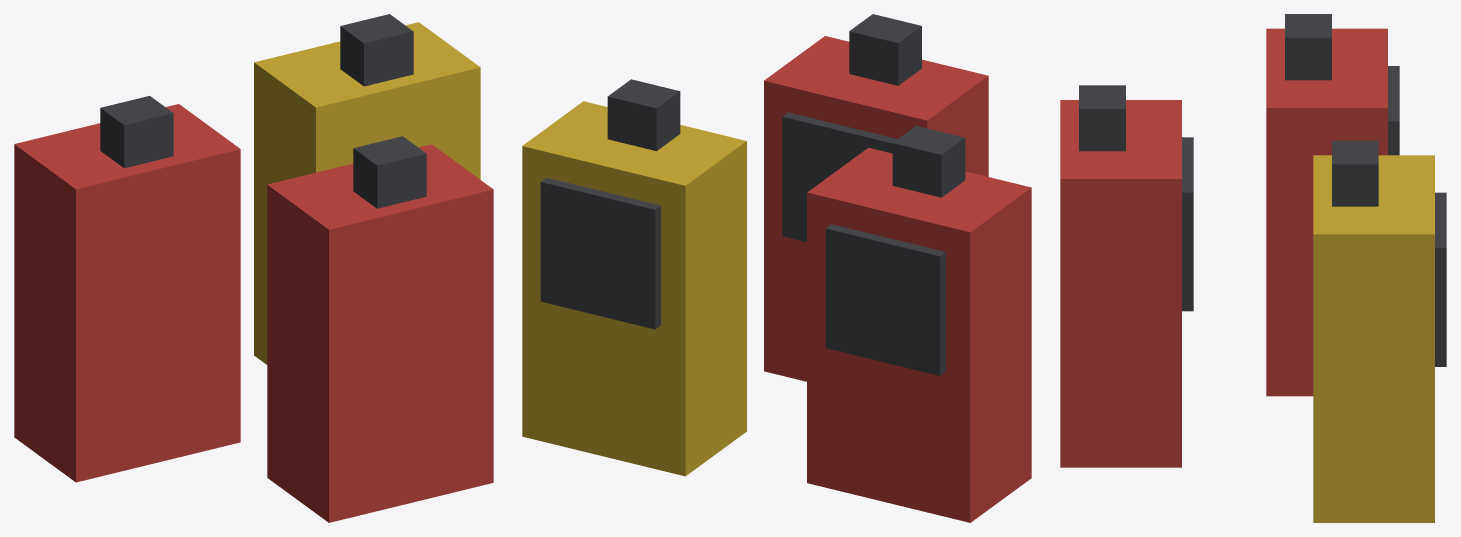
File: jerry_cans.glb
3 views of the same model, side by side, from view 1: azimuth 30°, elevation 25°; view 2: azimuth 150°, elevation 25°; view 3: azimuth 270°, elevation 25° (orthographic).
Visible parts, largest first — view 1: jerry_cans; view 2: jerry_cans; view 3: jerry_cans.
Boxes of the visible parts, x1,y1,x2,y2 form: jerry_cans: (14, 14, 493, 522); jerry_cans: (522, 14, 1031, 522); jerry_cans: (1060, 14, 1446, 522).
Size of the model in its own units: 0.52 by 0.39 by 0.4125.
